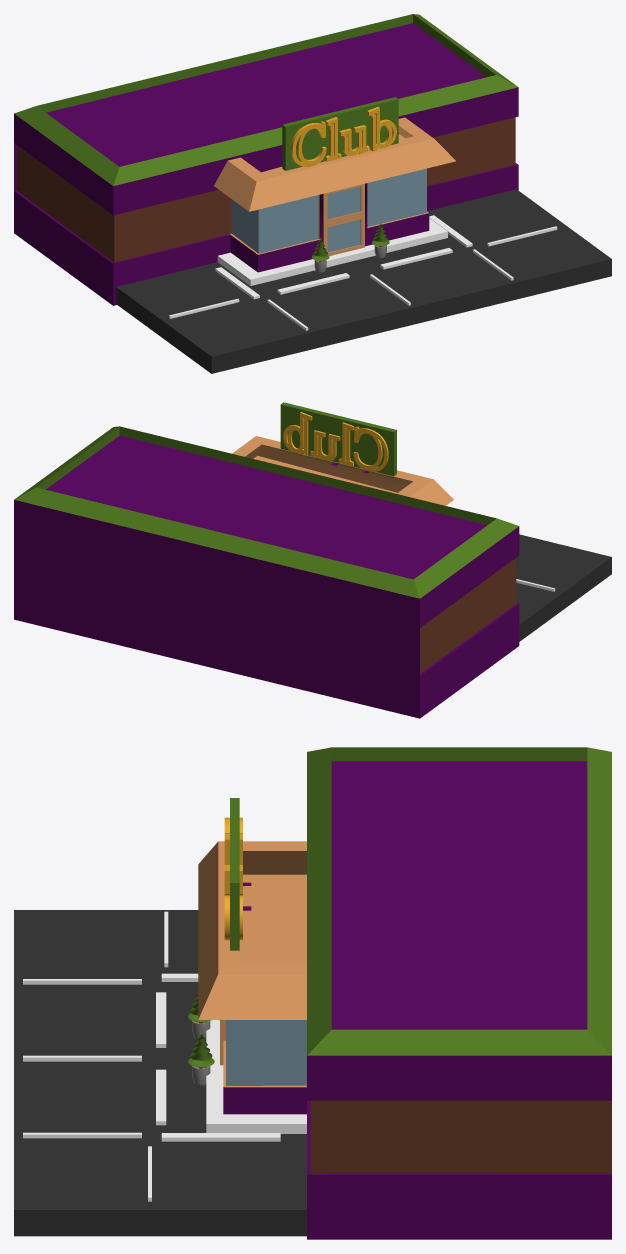
File: Club_1260.gltf
3 renders of one model, top to bottom at view 1: azimuth 30°, elevation 25°; view 2: azimuth 150°, elevation 25°; view 3: azimuth 270°, elevation 25°, orthographic. The views are drawn at different scales.
Parts seen in each view (by area): view 1: node-0; view 2: node-0; view 3: node-0.
Part boxes in pixels (left/top/right/bottom): node-0: left=14, top=14, right=611, bottom=373; node-0: left=14, top=402, right=611, bottom=718; node-0: left=14, top=747, right=611, bottom=1239.
Size of the model in its own units: 201 by 76.59 by 167.
